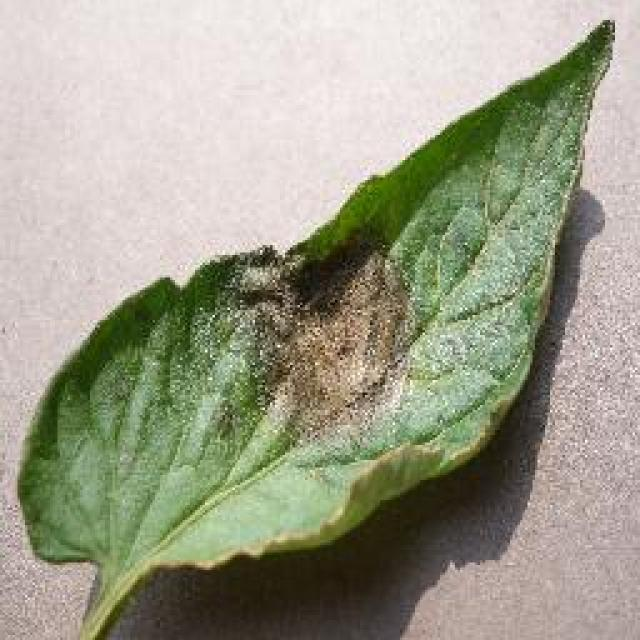Tomato Late Blight: (232, 192, 476, 460)
